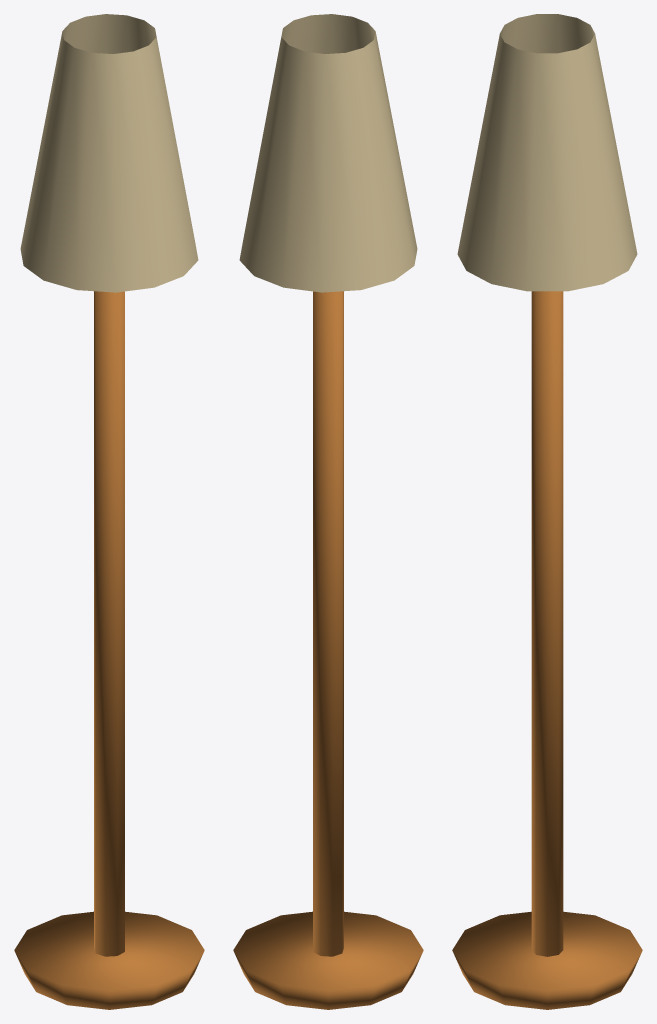
File: lihzahrd_lamp_v0.glb
3 views of the same model, side by side, from view 1: azimuth 30°, elevation 25°; view 2: azimuth 150°, elevation 25°; view 3: azimuth 270°, elevation 25° (orthographic).
Visible parts, largest first — view 1: lihzahrd_lamp_v0; view 2: lihzahrd_lamp_v0; view 3: lihzahrd_lamp_v0.
Part boxes in pixels (box(x1,y1,x2,y2)): lihzahrd_lamp_v0: box(14, 14, 204, 1009); lihzahrd_lamp_v0: box(233, 14, 423, 1009); lihzahrd_lamp_v0: box(452, 14, 642, 1009).
Size of the model in its own units: 0.36 by 1.96 by 0.36.
